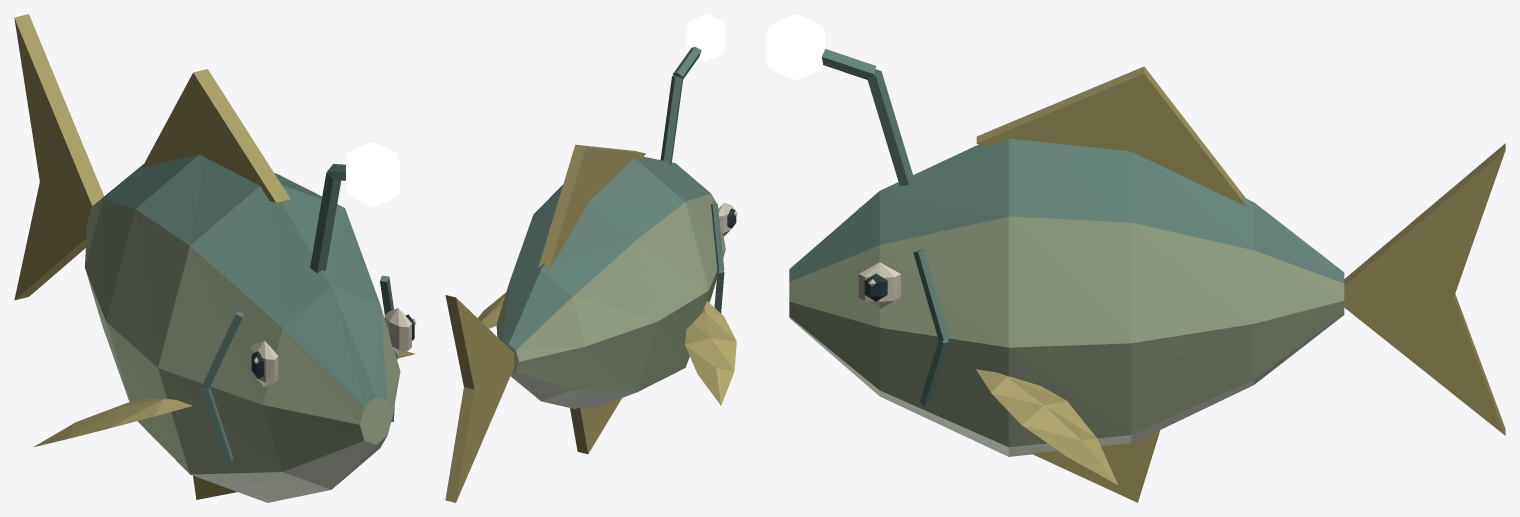
File: fish_lampfish.glb
3 renders of one model, left to right at view 1: azimuth 30°, elevation 25°; view 2: azimuth 150°, elevation 25°; view 3: azimuth 270°, elevation 25°, orthographic. The views are drawn at different scales.
Parts seen in each view (by area): view 1: fish, glow; view 2: fish, glow; view 3: fish, glow.
Part boxes in pixels (x1,y1,x2,y2): fish: [14, 14, 416, 502]; glow: [346, 141, 399, 206]; fish: [445, 47, 737, 502]; glow: [686, 14, 725, 61]; fish: [789, 49, 1505, 502]; glow: [766, 14, 825, 79].
Size of the model in its own units: 0.3465 by 0.44 by 0.6072.
